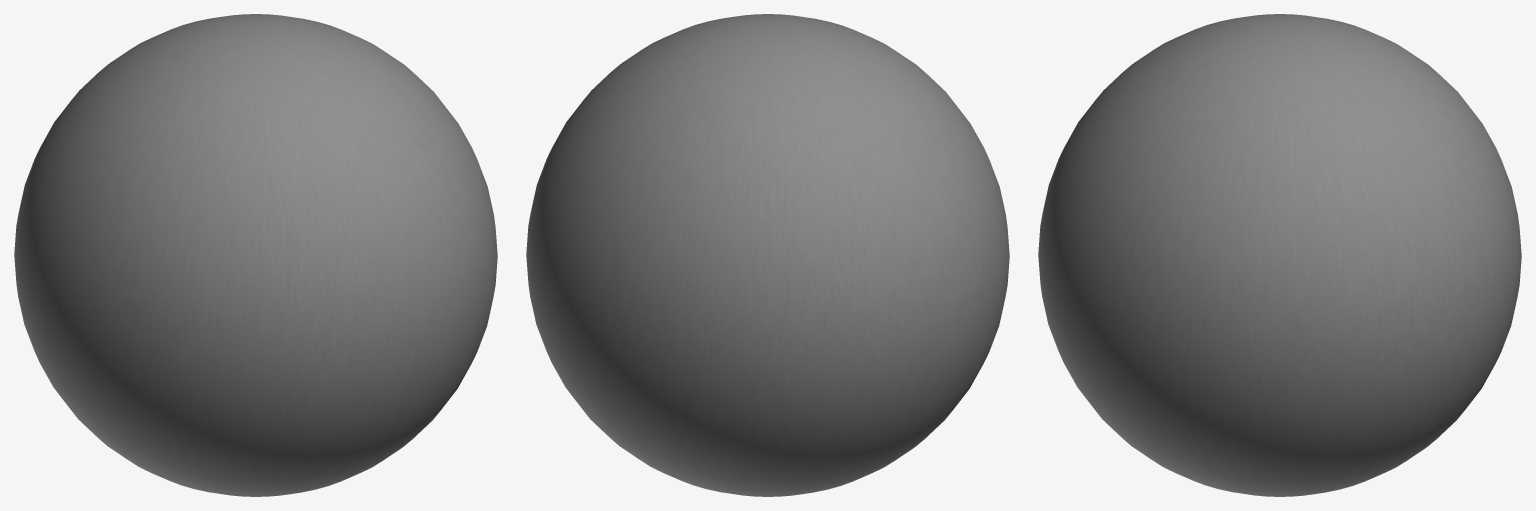
Rendered from testold.glb.
3 views of the same model, side by side, from view 1: azimuth 30°, elevation 25°; view 2: azimuth 150°, elevation 25°; view 3: azimuth 270°, elevation 25° (orthographic).
Parts seen in each view (by area): view 1: Sphere; view 2: Sphere; view 3: Sphere.
Part boxes in pixels (x1,y1,x2,y2): Sphere: (14,14,497,496); Sphere: (526,14,1009,496); Sphere: (1038,14,1521,496).
Bounding box in the file's own units: 7469 × 7470 × 7469.
1 material, 1 textured.
